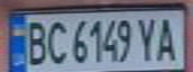1: (84, 16, 103, 64)
4: (100, 16, 121, 62)
6: (66, 17, 87, 64)
9: (115, 16, 136, 63)
A: (154, 14, 181, 63)
B: (21, 17, 51, 66)
C: (42, 17, 69, 65)
Y: (136, 15, 160, 63)
